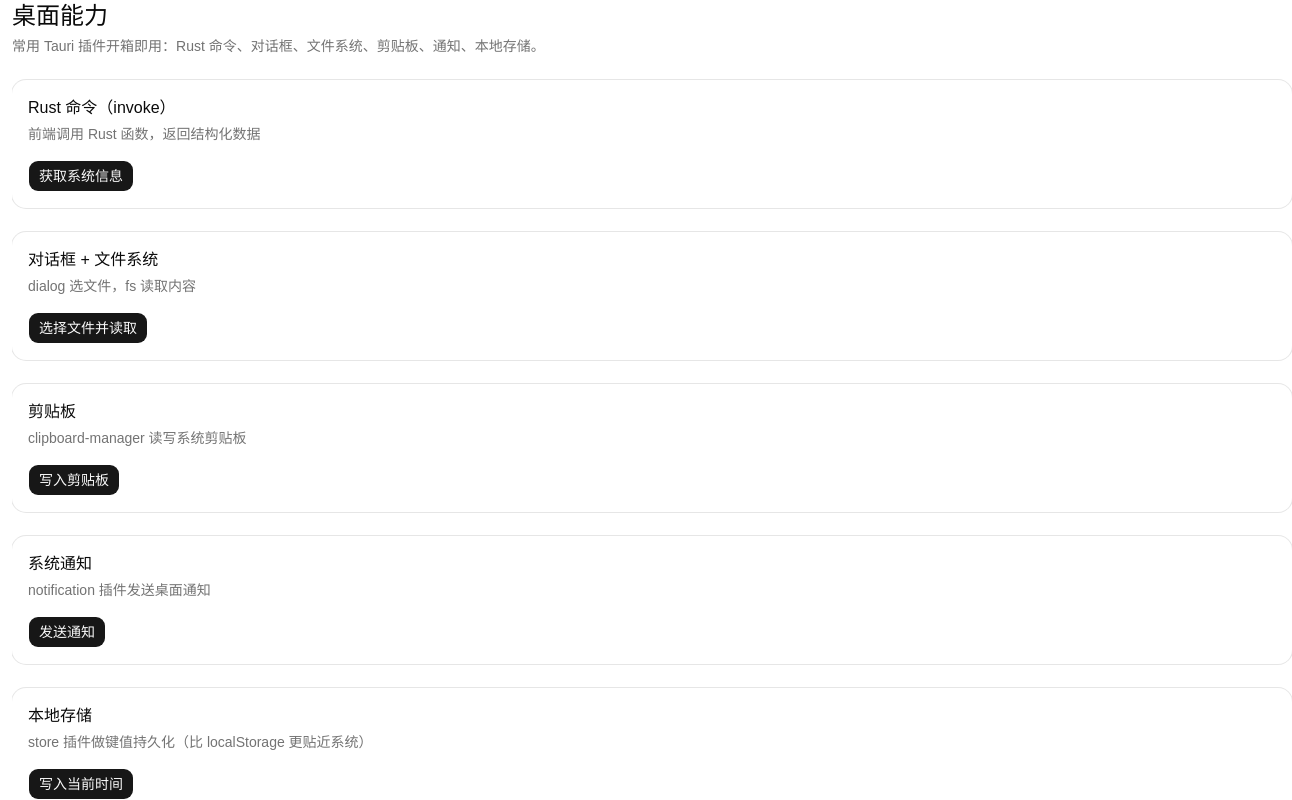
Test: CapabilitiesPage › 写入 store 并展示上次写入值
Click the button "写入当前时间".
click(81, 784)  # box x1=28 y1=768 x2=134 y2=799
(page scrolled)
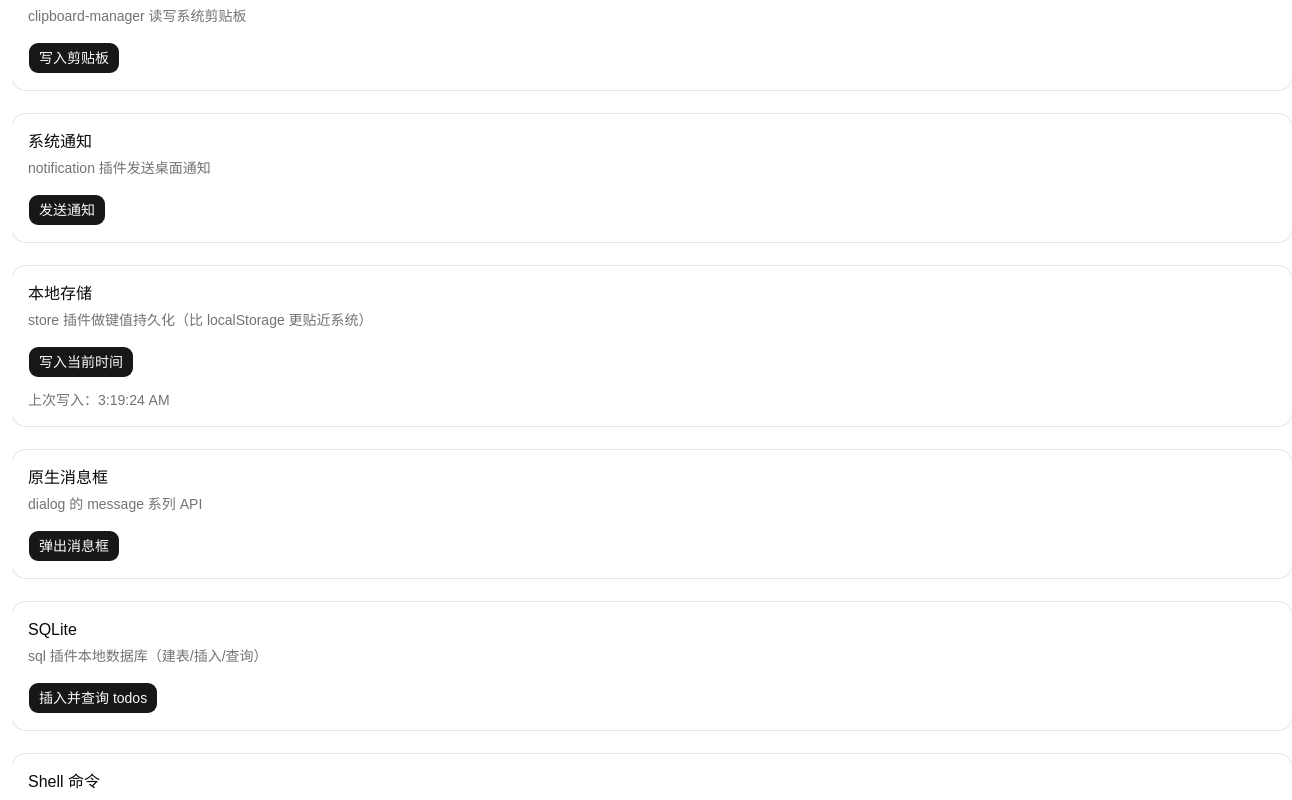
Check: the text "上次写入：3:19:24 AM" is shown, box x1=28 y1=392 x2=170 y2=408
